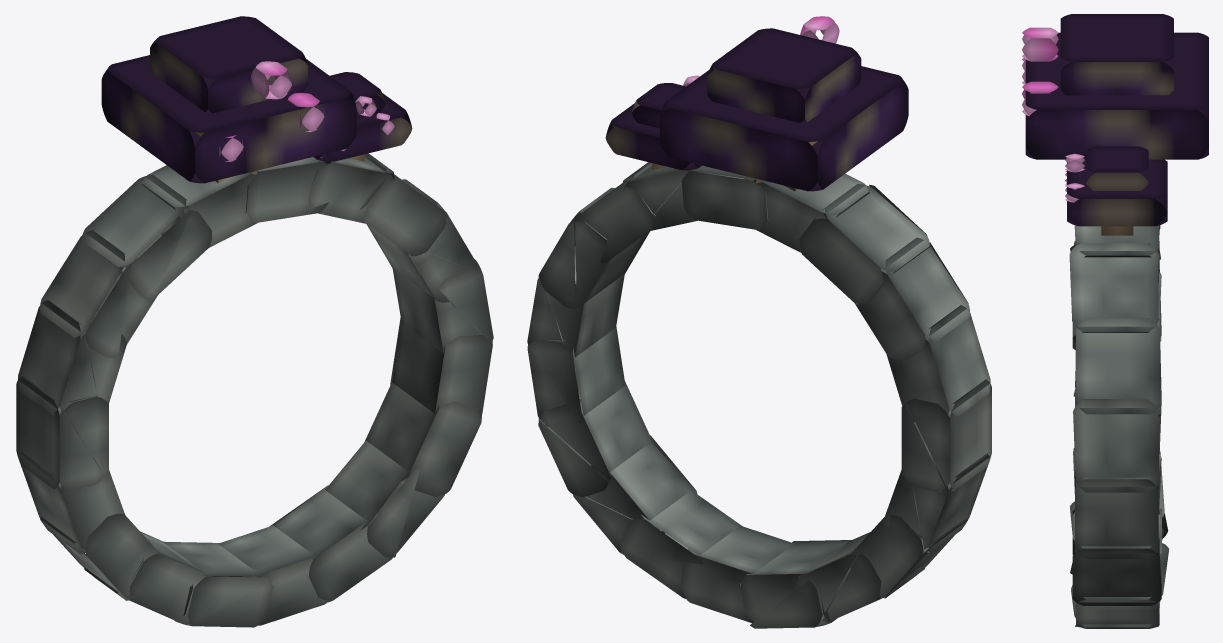
Rendered from spore_stained_ring.obj.
3 renders of one model, left to right at view 1: azimuth 30°, elevation 25°; view 2: azimuth 150°, elevation 25°; view 3: azimuth 270°, elevation 25°, orthographic. The views are drawn at different scales.
Visible parts, largest first — view 1: lit, fire; view 2: lit, fire; view 3: lit, fire.
Part boxes in pixels (x1,y1,x2,y2): lit: [16, 16, 493, 627]; fire: [219, 61, 394, 161]; lit: [527, 28, 991, 628]; fire: [683, 16, 839, 86]; lit: [1025, 14, 1208, 628]; fire: [1022, 27, 1084, 202].
Bounding box in the file's own units: 0.6771 × 0.8497 × 0.255.
